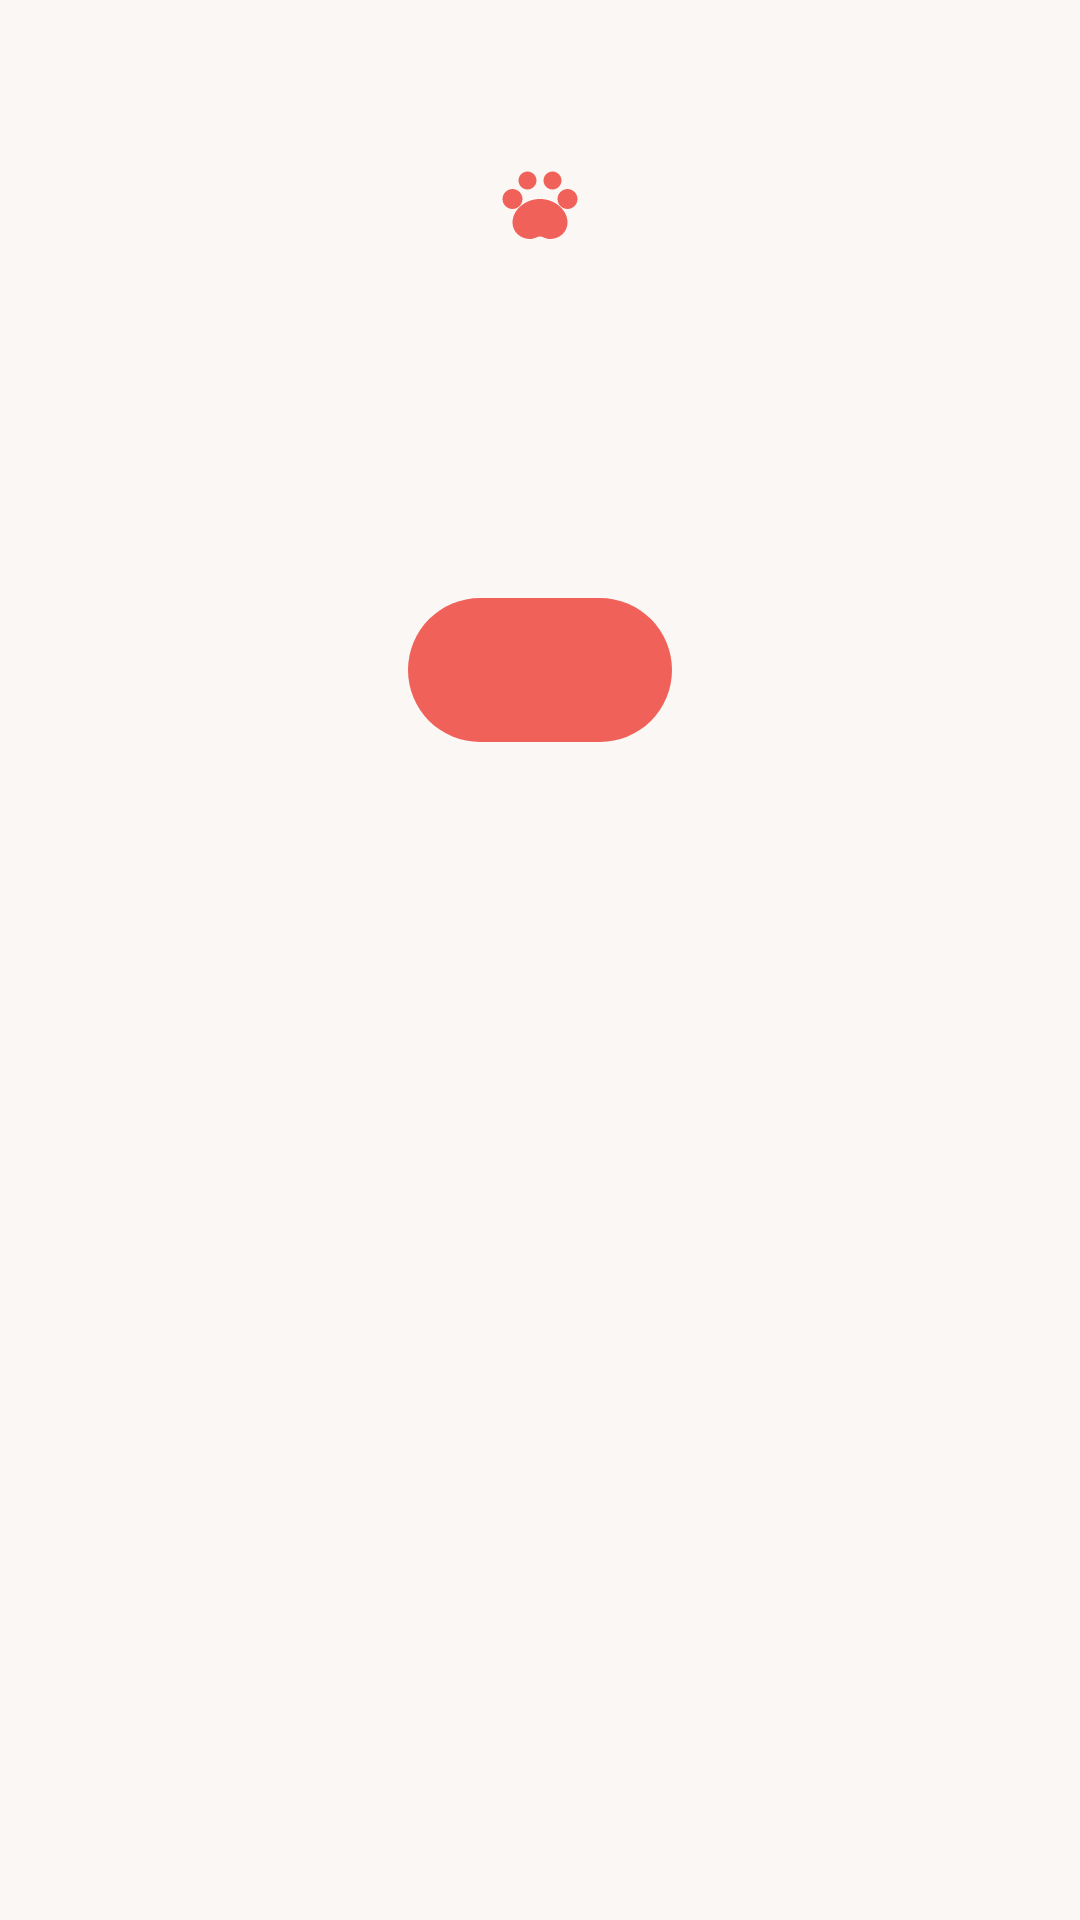

Locate icon controls on the screen. Image size 1080px x 1920px, boxes as (x1, y1, x2, y2).
pets: (502, 171, 578, 239)
